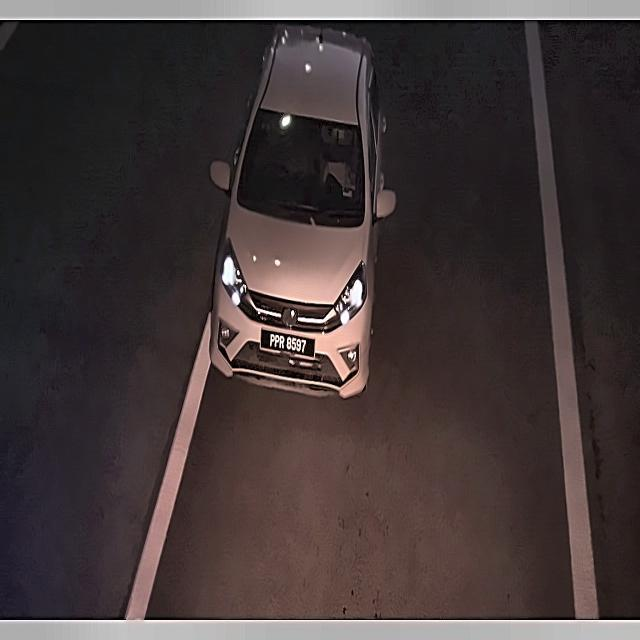car: (255, 324, 324, 372)
